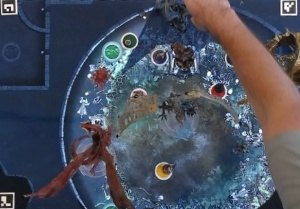green: (121, 30, 142, 51)
pink: (127, 85, 150, 104)
red: (210, 80, 229, 98)
violet: (150, 48, 171, 69)
yellow: (151, 158, 177, 181)
